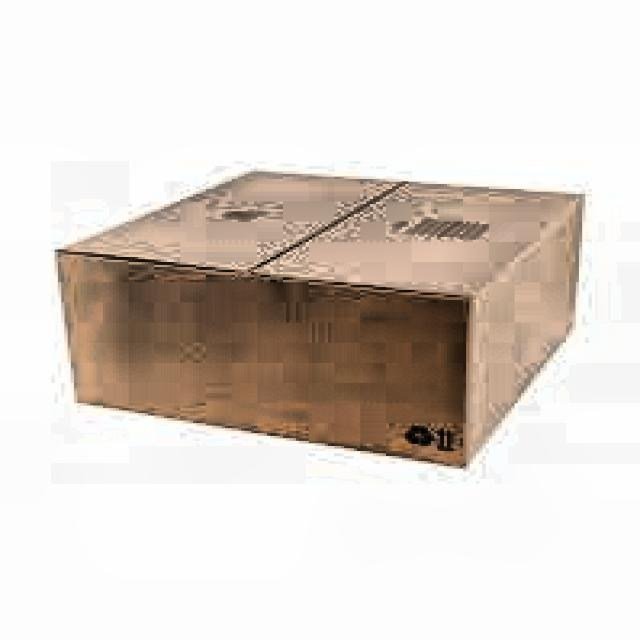cardboard: (52, 166, 586, 469)
